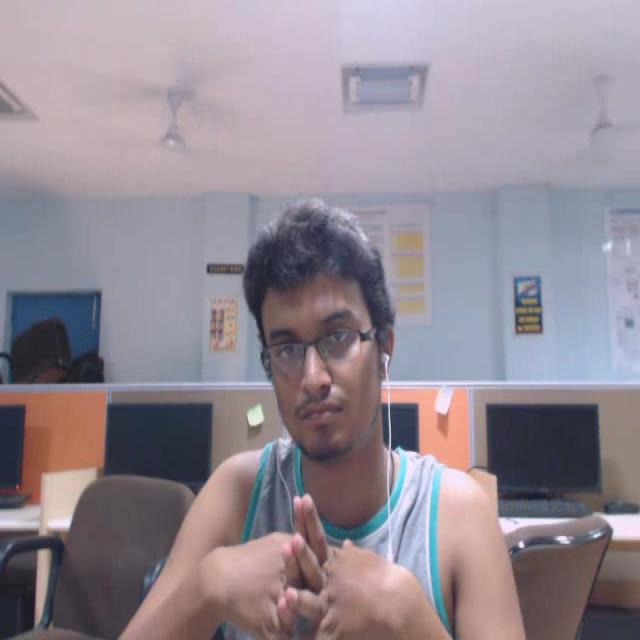Engaged: (213, 174, 430, 494)
